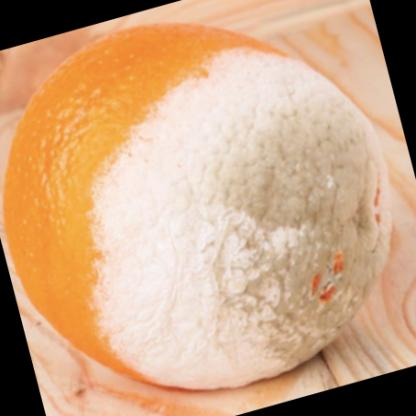rotten: (8, 26, 394, 388)
